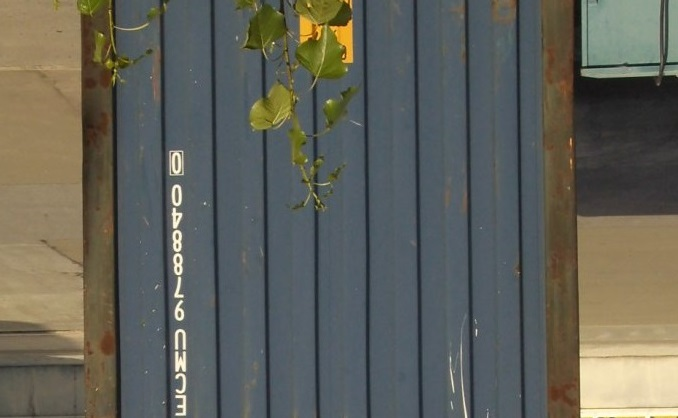container_no_door: (83, 1, 579, 410)
